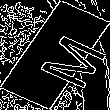M_NW: (14, 23, 96, 87)
